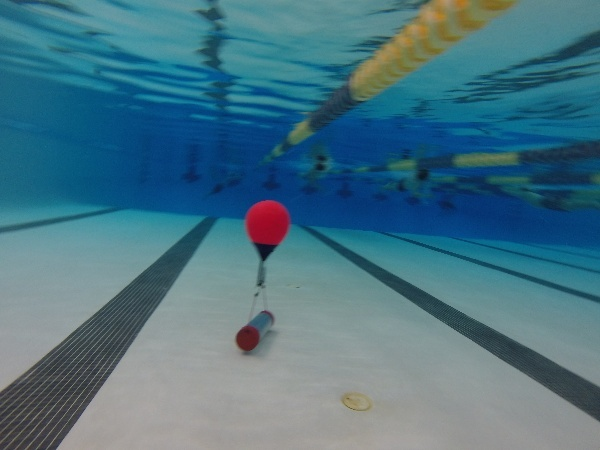buoy_red: (244, 197, 293, 259)
